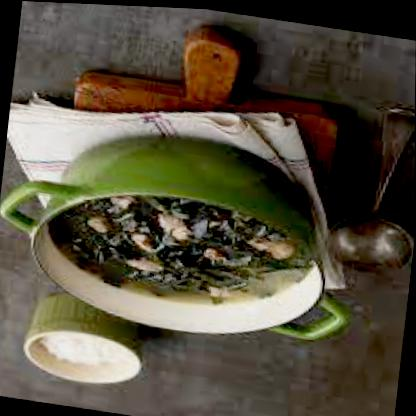rice ball: (24, 323, 146, 388)
seaweed: (36, 169, 323, 325)
